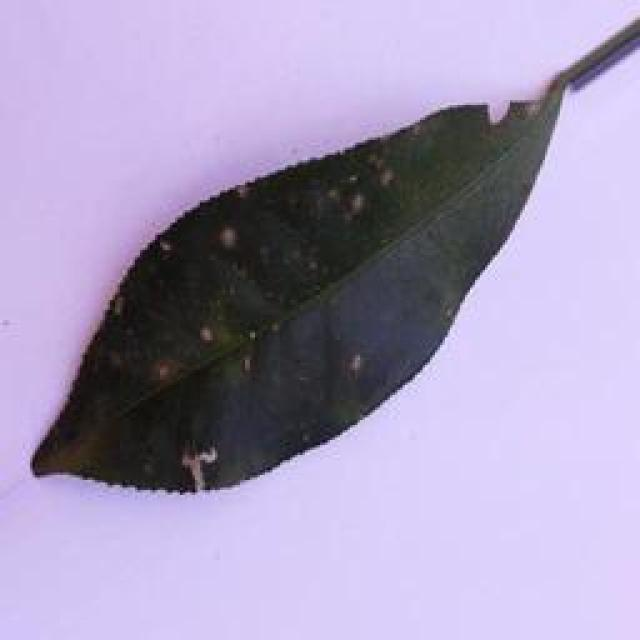Algal Leaf Spot: (26, 84, 562, 493)
